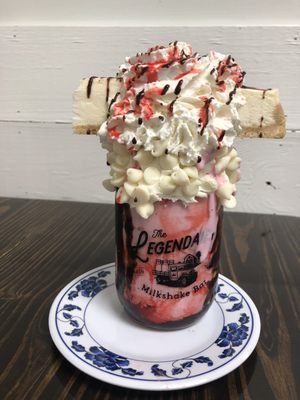curry: (0, 196, 299, 400)
soup: (114, 192, 223, 325)
